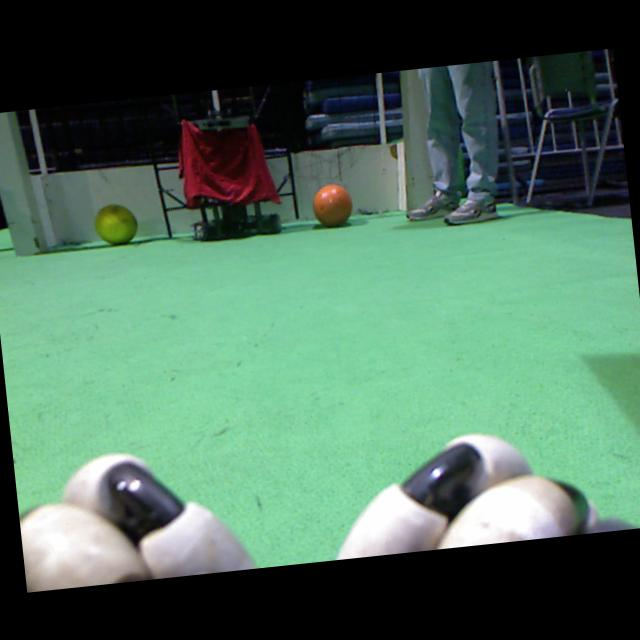ball: (94, 204, 138, 244), (313, 184, 352, 227)
goal: (0, 112, 40, 255), (407, 69, 434, 209)
